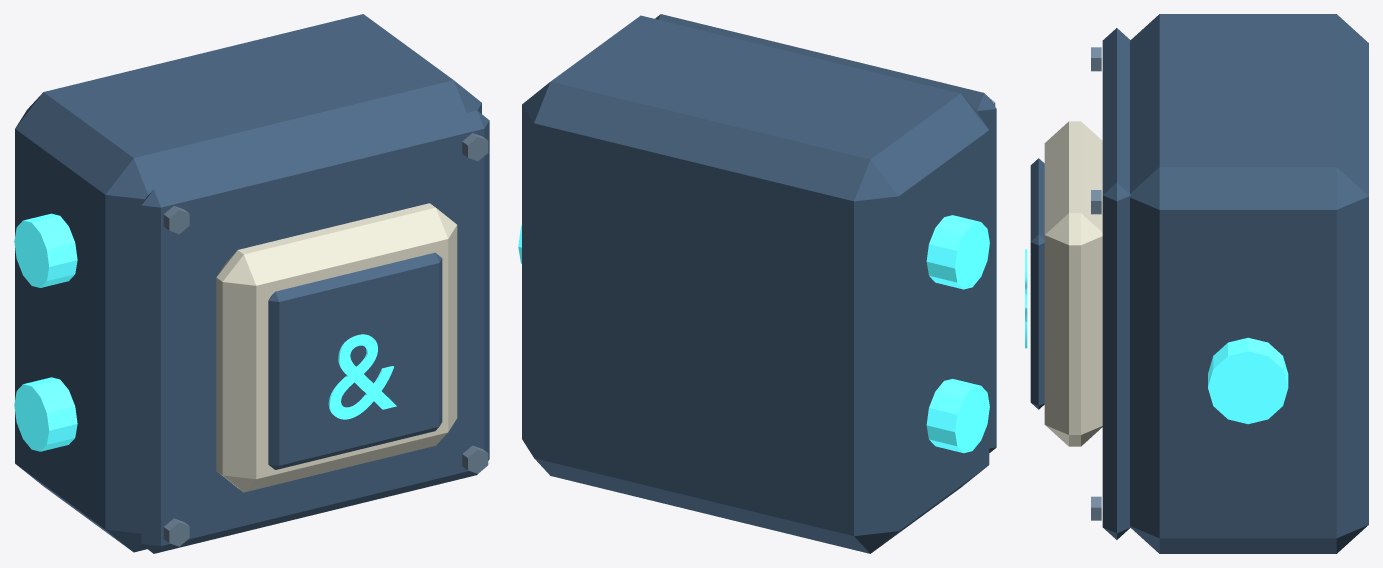
The model's file is and_gate.glb.
3 views of the same model, side by side, from view 1: azimuth 30°, elevation 25°; view 2: azimuth 150°, elevation 25°; view 3: azimuth 270°, elevation 25° (orthographic).
Parts seen in each view (by area): view 1: Structural core.012, Front armor.012, Chip inset, Logic chip, Input signal.001, Input signal, Logic glyph, Rivet.057, Rivet.056, Rivet.059, Rivet.058; view 2: Structural core.012, Front armor.012, Input signal.001, Input signal; view 3: Structural core.012, Logic chip, Front armor.012, Output signal, Chip inset.
Boxes of the visible parts, x1,y1,x2,y2 form: Structural core.012: (15,14,481,552); Front armor.012: (141,110,489,553); Chip inset: (268,252,442,469); Logic chip: (216,203,457,492); Input signal.001: (14,213,77,287); Input signal: (14,377,77,451); Logic glyph: (328,334,396,419); Rivet.057: (163,206,189,234); Rivet.056: (163,518,189,546); Rivet.059: (462,133,488,161); Rivet.058: (462,445,488,473); Structural core.012: (522,15,989,553); Front armor.012: (655,14,996,452); Input signal.001: (926,215,989,289); Input signal: (926,379,989,453); Structural core.012: (1130,14,1368,553); Logic chip: (1044,121,1102,446); Front armor.012: (1102,28,1130,539); Output signal: (1208,337,1288,424); Chip inset: (1030,158,1044,409).
Size of the model in its own units: 1.22 by 1.06 by 0.854.
